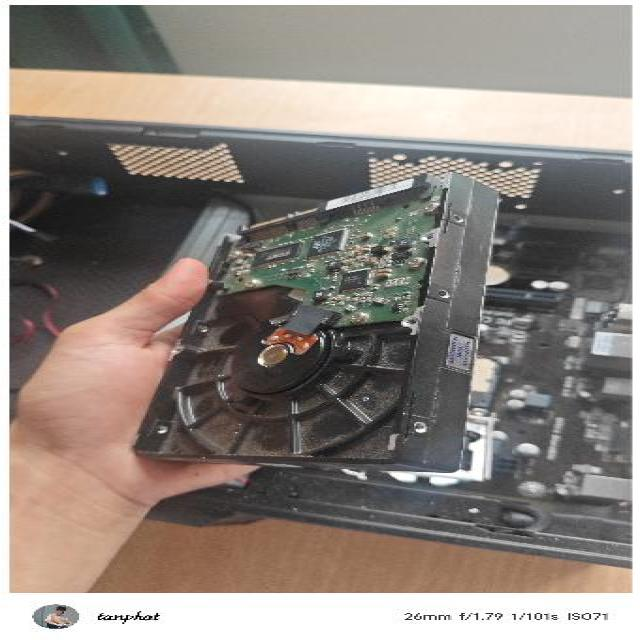DISK: (121, 168, 504, 476)
